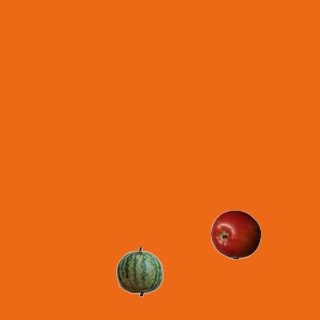Apple Braeburn: (210, 209, 260, 259)
Watermelon: (114, 246, 164, 296)
